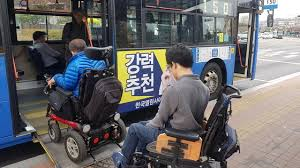out: (223, 1, 269, 90)
